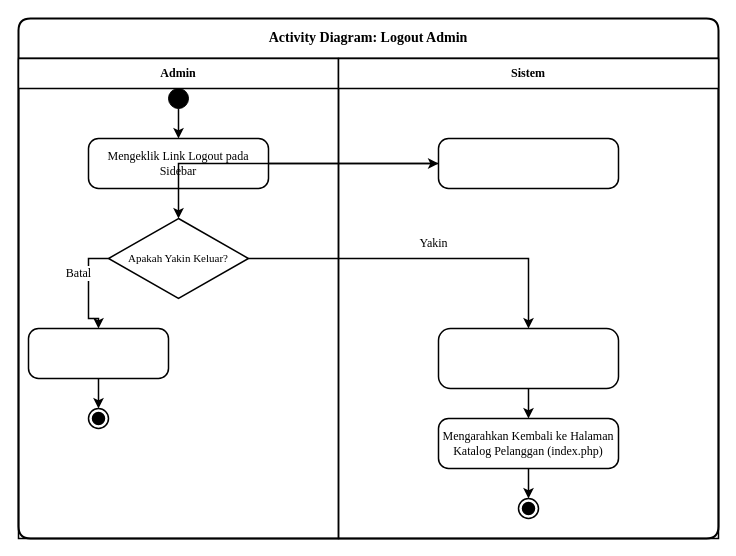
Some shapes in this 736 by 556 pixel diagram are drawn without their labels. Here are the shapes that lost their labels. From the top down, the centre of each, then its label:
At (x=528, y=163): "Menampilkan Dialog Konfirmasi Keluar".
At (x=98, y=353): "Membatalkan Logout (Tetap berada pada Halaman Panel Admin)".
At (x=528, y=358): "Mengosongkan Array $_SESSION & Menghancurkan Cookie Sesi".
